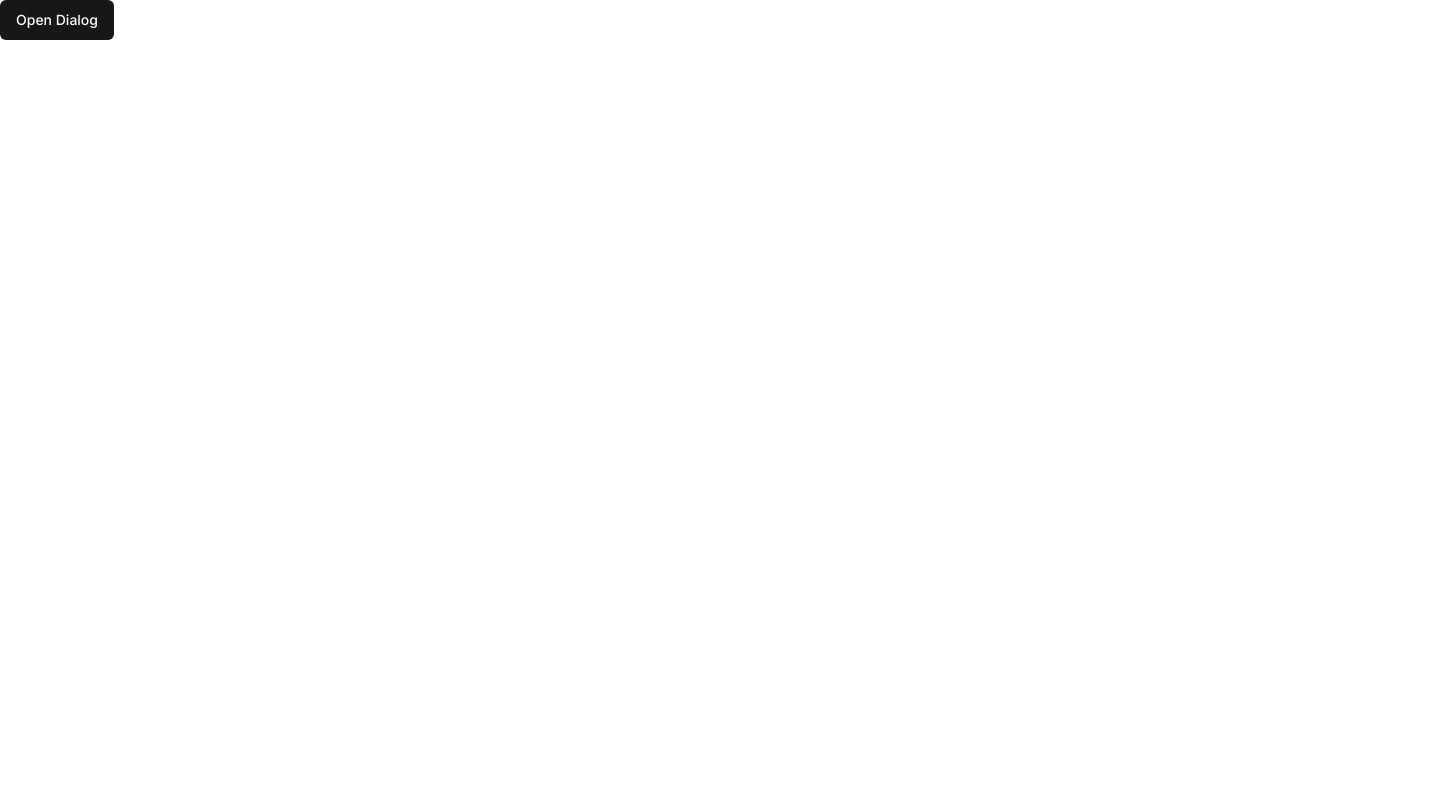
Test: ConfirmationDialog › opens dialog when trigger is clicked
This screenshot has width=1440, height=810.
Click the button "Open Dialog" at (57, 20), box top-left (0, 0), bottom-right (114, 40)
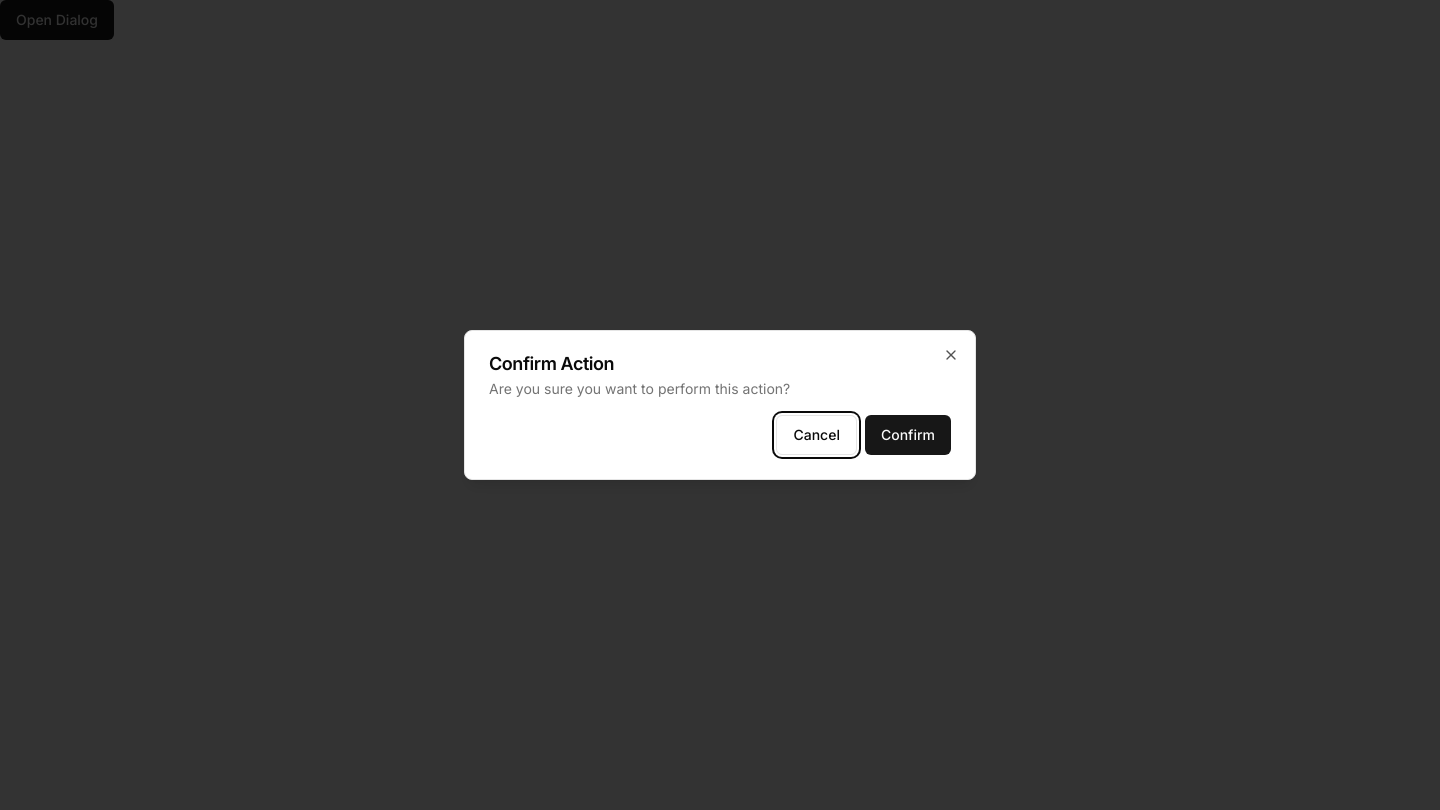
Now the heading "Confirm Action" is shown, box top-left (489, 353), bottom-right (614, 374)
Now the text "Are you sure you want to perform this action?" is shown, box top-left (489, 380), bottom-right (790, 397)
Now the button "Cancel" is shown, box top-left (776, 415), bottom-right (857, 455)
